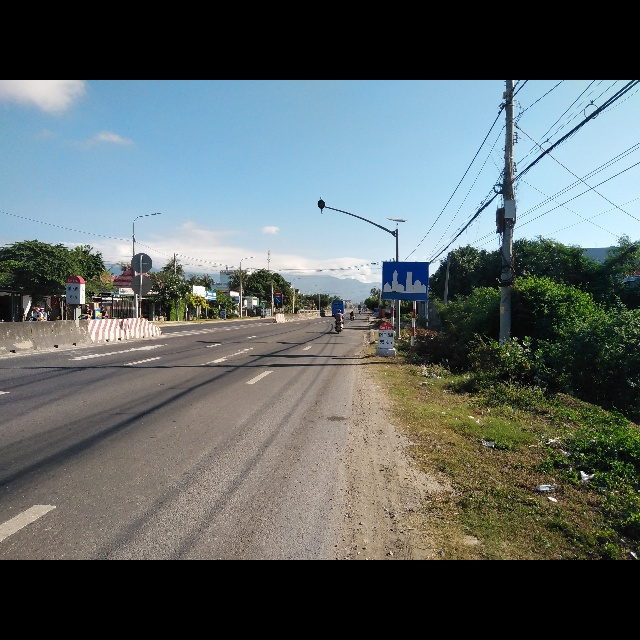Khu đông dân cư: (382, 261, 430, 301)
